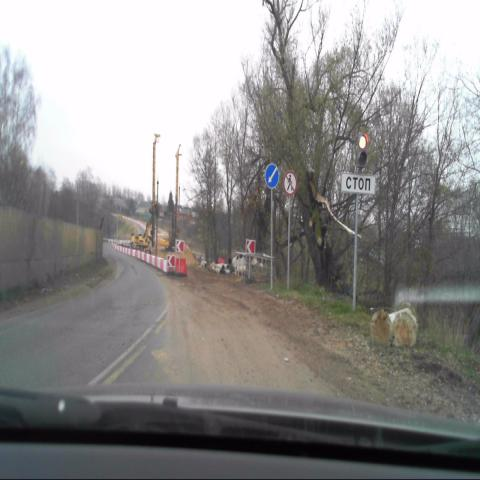3_10: (283, 172, 297, 195)
4_2_2: (264, 163, 280, 192)
